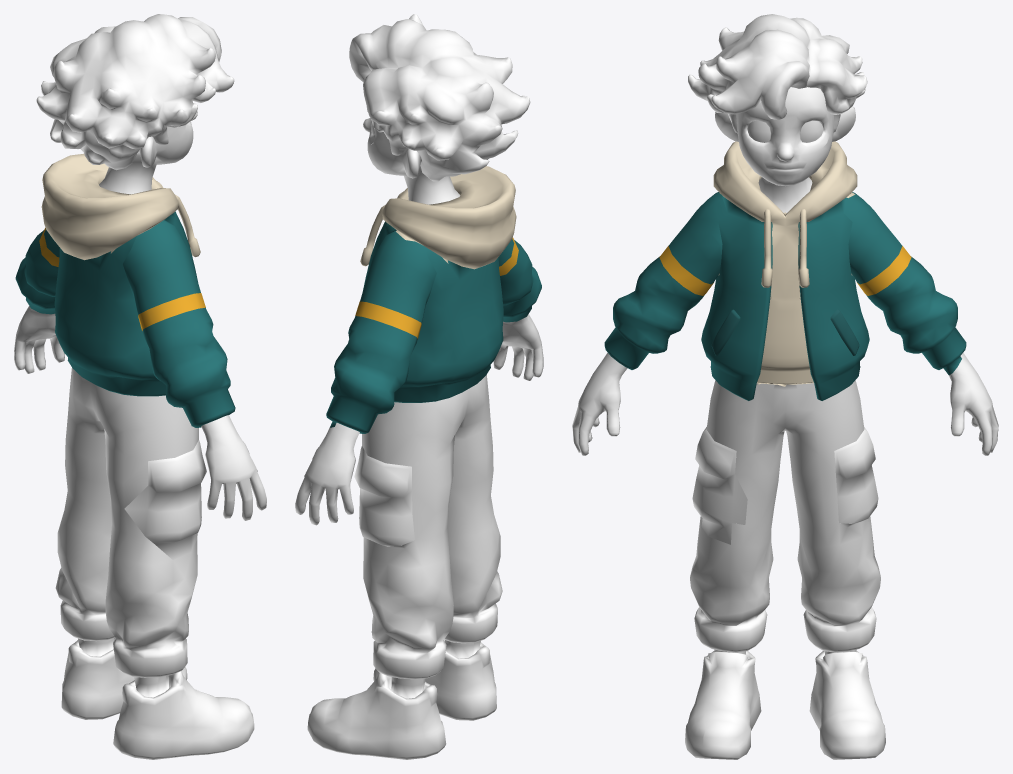
Rendered from CIVRUM_01_Wardrobe.glb.
3 renders of one model, left to right at view 1: azimuth 30°, elevation 25°; view 2: azimuth 150°, elevation 25°; view 3: azimuth 270°, elevation 25°, orthographic.
Visible parts, largest first — view 1: tripo_part_2, Citizen01_Jacket, Citizen01_Hair, Citizen01_Hoodie, tripo_part_3, tripo_part_12, tripo_part_5, tripo_part_4, Citizen01_Head, tripo_part_7; view 2: tripo_part_2, Citizen01_Jacket, Citizen01_Hair, Citizen01_Hoodie, tripo_part_5, tripo_part_9, tripo_part_3, tripo_part_7, Citizen01_Head, tripo_part_4; view 3: Citizen01_Jacket, tripo_part_2, Citizen01_Hair, Citizen01_Hoodie, Citizen01_Head, tripo_part_3, tripo_part_5, tripo_part_12, tripo_part_9, tripo_part_4, tripo_part_7.
Part boxes in pixels (x1,y1,x2,y2): tripo_part_2: (55, 368, 198, 677); Citizen01_Jacket: (15, 211, 235, 427); Citizen01_Hair: (36, 14, 234, 170); Citizen01_Hoodie: (41, 153, 200, 260); tripo_part_3: (113, 671, 254, 759); tripo_part_12: (124, 440, 206, 559); tripo_part_5: (61, 637, 187, 719); tripo_part_4: (201, 415, 266, 520); Citizen01_Head: (99, 111, 197, 194); tripo_part_7: (14, 306, 64, 373); tripo_part_2: (362, 375, 502, 679); Citizen01_Jacket: (326, 221, 541, 433); Citizen01_Hair: (349, 14, 530, 181); Citizen01_Hoodie: (360, 166, 516, 269); tripo_part_5: (307, 672, 446, 759); tripo_part_9: (354, 446, 414, 546); tripo_part_3: (373, 639, 496, 720); tripo_part_7: (295, 423, 359, 525); Citizen01_Head: (363, 106, 460, 204); tripo_part_4: (493, 314, 543, 380); Citizen01_Jacket: (604, 192, 966, 400); tripo_part_2: (690, 380, 880, 652); Citizen01_Hair: (688, 14, 867, 133); Citizen01_Hoodie: (713, 141, 857, 386); Citizen01_Head: (715, 87, 855, 212); tripo_part_3: (685, 649, 761, 759); tripo_part_5: (809, 649, 885, 759); tripo_part_12: (692, 427, 747, 544); tripo_part_9: (834, 427, 878, 523); tripo_part_4: (572, 353, 627, 455); tripo_part_7: (949, 353, 998, 455).
Bounding box in the file's own units: 0.2515 × 0.9995 × 0.5474.
